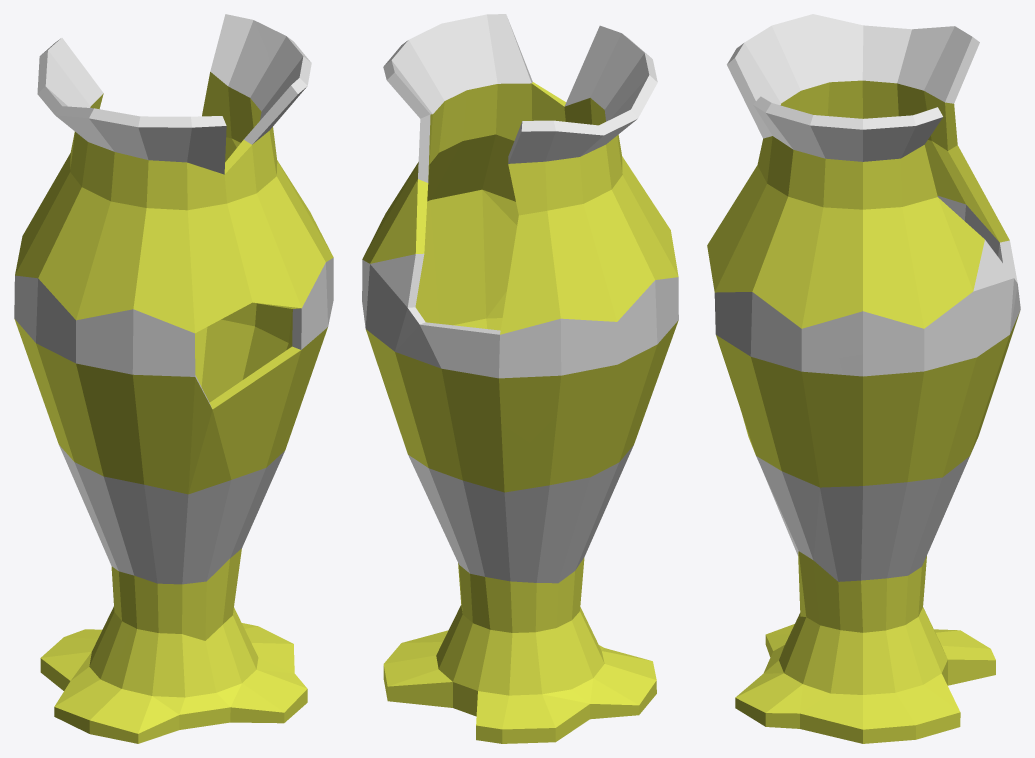
File: Vase_M_3.fbx
The picture shows the model from 3 angles, left to right: view 1: azimuth 30°, elevation 25°; view 2: azimuth 150°, elevation 25°; view 3: azimuth 270°, elevation 25°; orthographic projection.
Visible parts, largest first — view 1: Vase_M_3; view 2: Vase_M_3; view 3: Vase_M_3.
Boxes of the visible parts, x1,y1,x2,y2 form: Vase_M_3: (14, 14, 333, 743); Vase_M_3: (362, 14, 678, 743); Vase_M_3: (707, 14, 1020, 743).
Size of the model in its own units: 0.1675 by 0.3618 by 0.1653.
